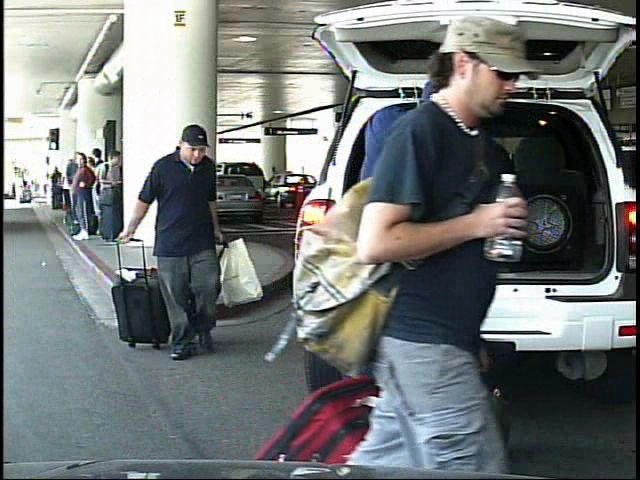person: (324, 12, 521, 476), (330, 73, 513, 476), (113, 125, 241, 366), (13, 174, 24, 205)
